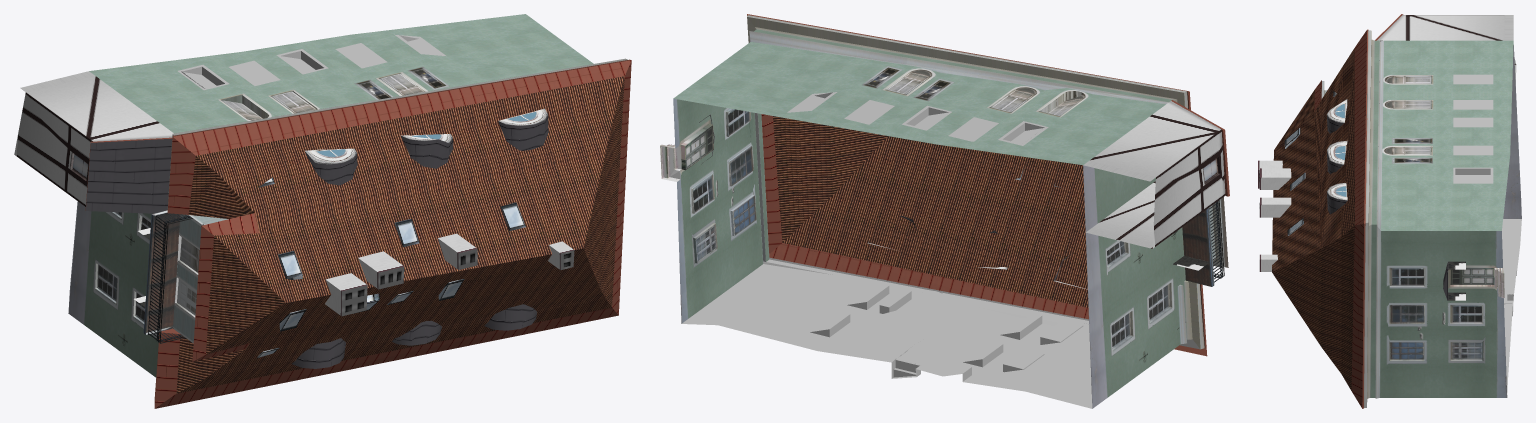
Rendered from Toom-Kooli_15_1-origo.obj.
The picture shows the model from 3 angles, left to right: view 1: azimuth 30°, elevation 25°; view 2: azimuth 150°, elevation 25°; view 3: azimuth 270°, elevation 25°; orthographic projection. The views are drawn at different scales.
Visible parts, largest first — view 1: Toom_Kooli_15_1; view 2: Toom_Kooli_15_1; view 3: Toom_Kooli_15_1.
Boxes of the visible parts, x1,y1,x2,y2 form: Toom_Kooli_15_1: [14, 14, 631, 408]; Toom_Kooli_15_1: [660, 14, 1229, 408]; Toom_Kooli_15_1: [1258, 14, 1521, 408].
Size of the model in its own units: 32.81 by 17 by 18.85.
